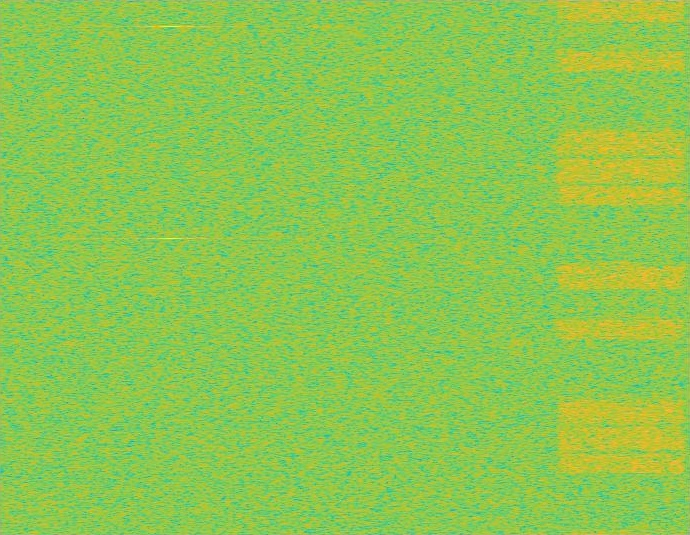LTE: (552, 0, 689, 534)
Radar: (164, 0, 178, 534)
